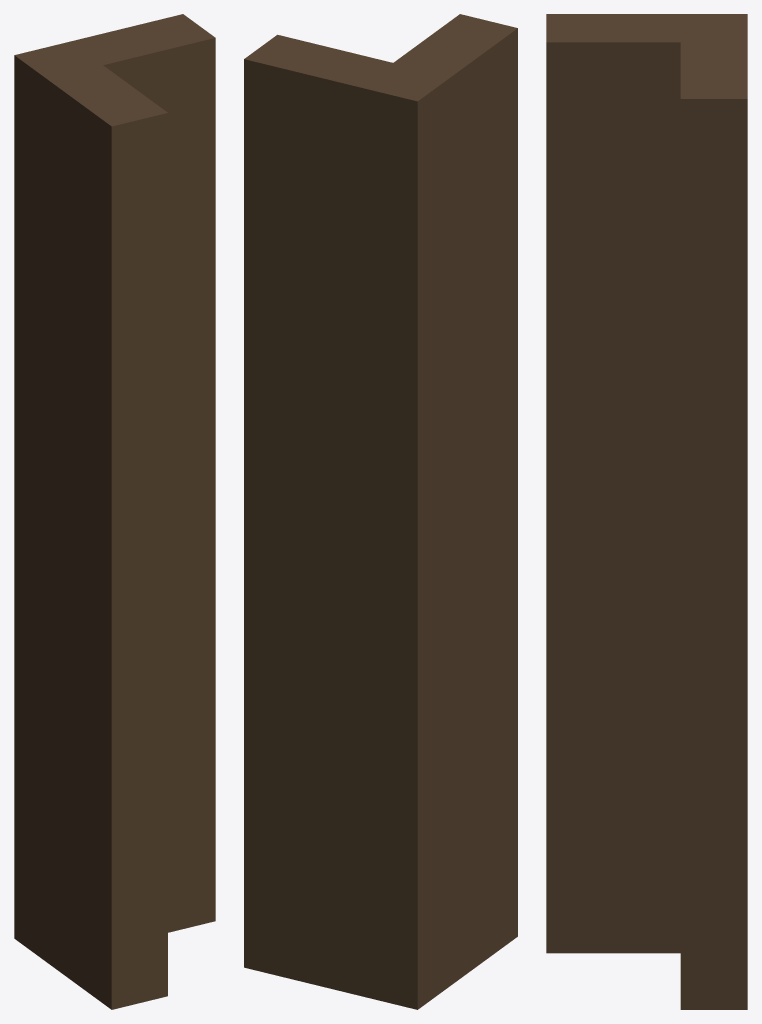
Rendered from wall_small_corner.fbx.
3 renders of one model, left to right at view 1: azimuth 30°, elevation 25°; view 2: azimuth 150°, elevation 25°; view 3: azimuth 270°, elevation 25°, orthographic. The views are drawn at different scales.
Visible parts, largest first — view 1: wall_small_corner; view 2: wall_small_corner; view 3: wall_small_corner.
Part boxes in pixels (x1,y1,x2,y2): wall_small_corner: (14, 14, 215, 1009); wall_small_corner: (244, 14, 517, 1009); wall_small_corner: (546, 14, 747, 1009).
Size of the model in its own units: 60 by 300 by 60.
